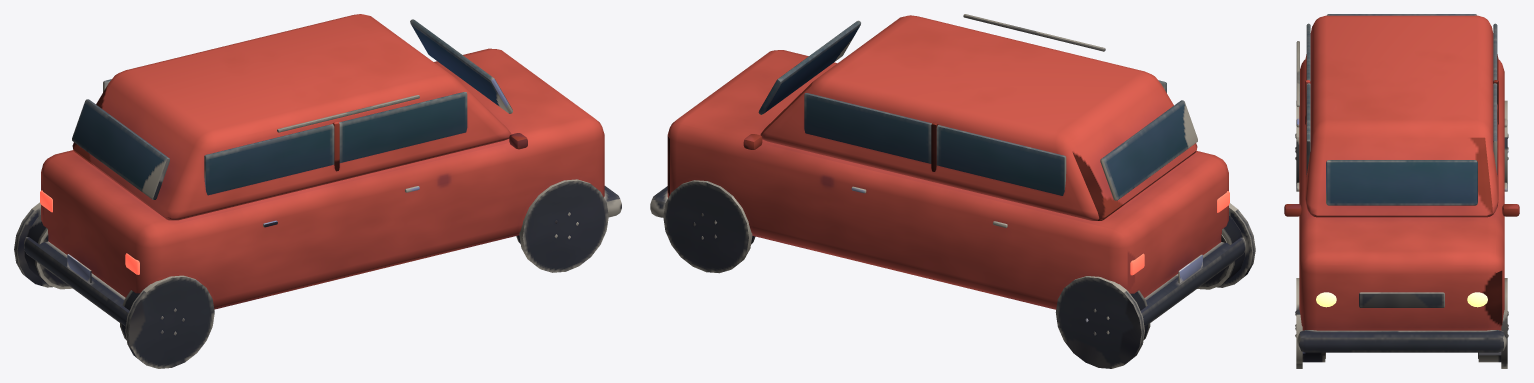
The model's file is car_van.glb.
The picture shows the model from 3 angles, left to right: view 1: azimuth 30°, elevation 25°; view 2: azimuth 150°, elevation 25°; view 3: azimuth 270°, elevation 25°; orthographic projection. The views are drawn at different scales.
Parts seen in each view (by area): view 1: Body, Wheel_RL; view 2: Body, Wheel_RR; view 3: Body, Wheel_FL, Wheel_FR.
Part boxes in pixels (box(x1,y1,x2,y2)): Body: box(14, 14, 621, 368); Wheel_RL: box(24, 215, 72, 289); Body: box(650, 14, 1255, 368); Wheel_RR: box(1197, 215, 1245, 289); Body: box(1284, 14, 1519, 368); Wheel_FL: box(1478, 311, 1508, 362); Wheel_FR: box(1295, 311, 1325, 362).
Size of what is drawn, in the model's own units: 4.91 by 1.99 by 2.18.
4 materials, 2 textured.
